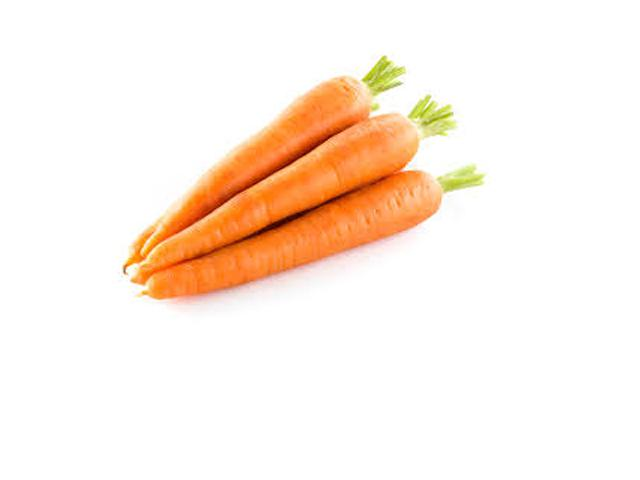carrot: (148, 162, 469, 304)
